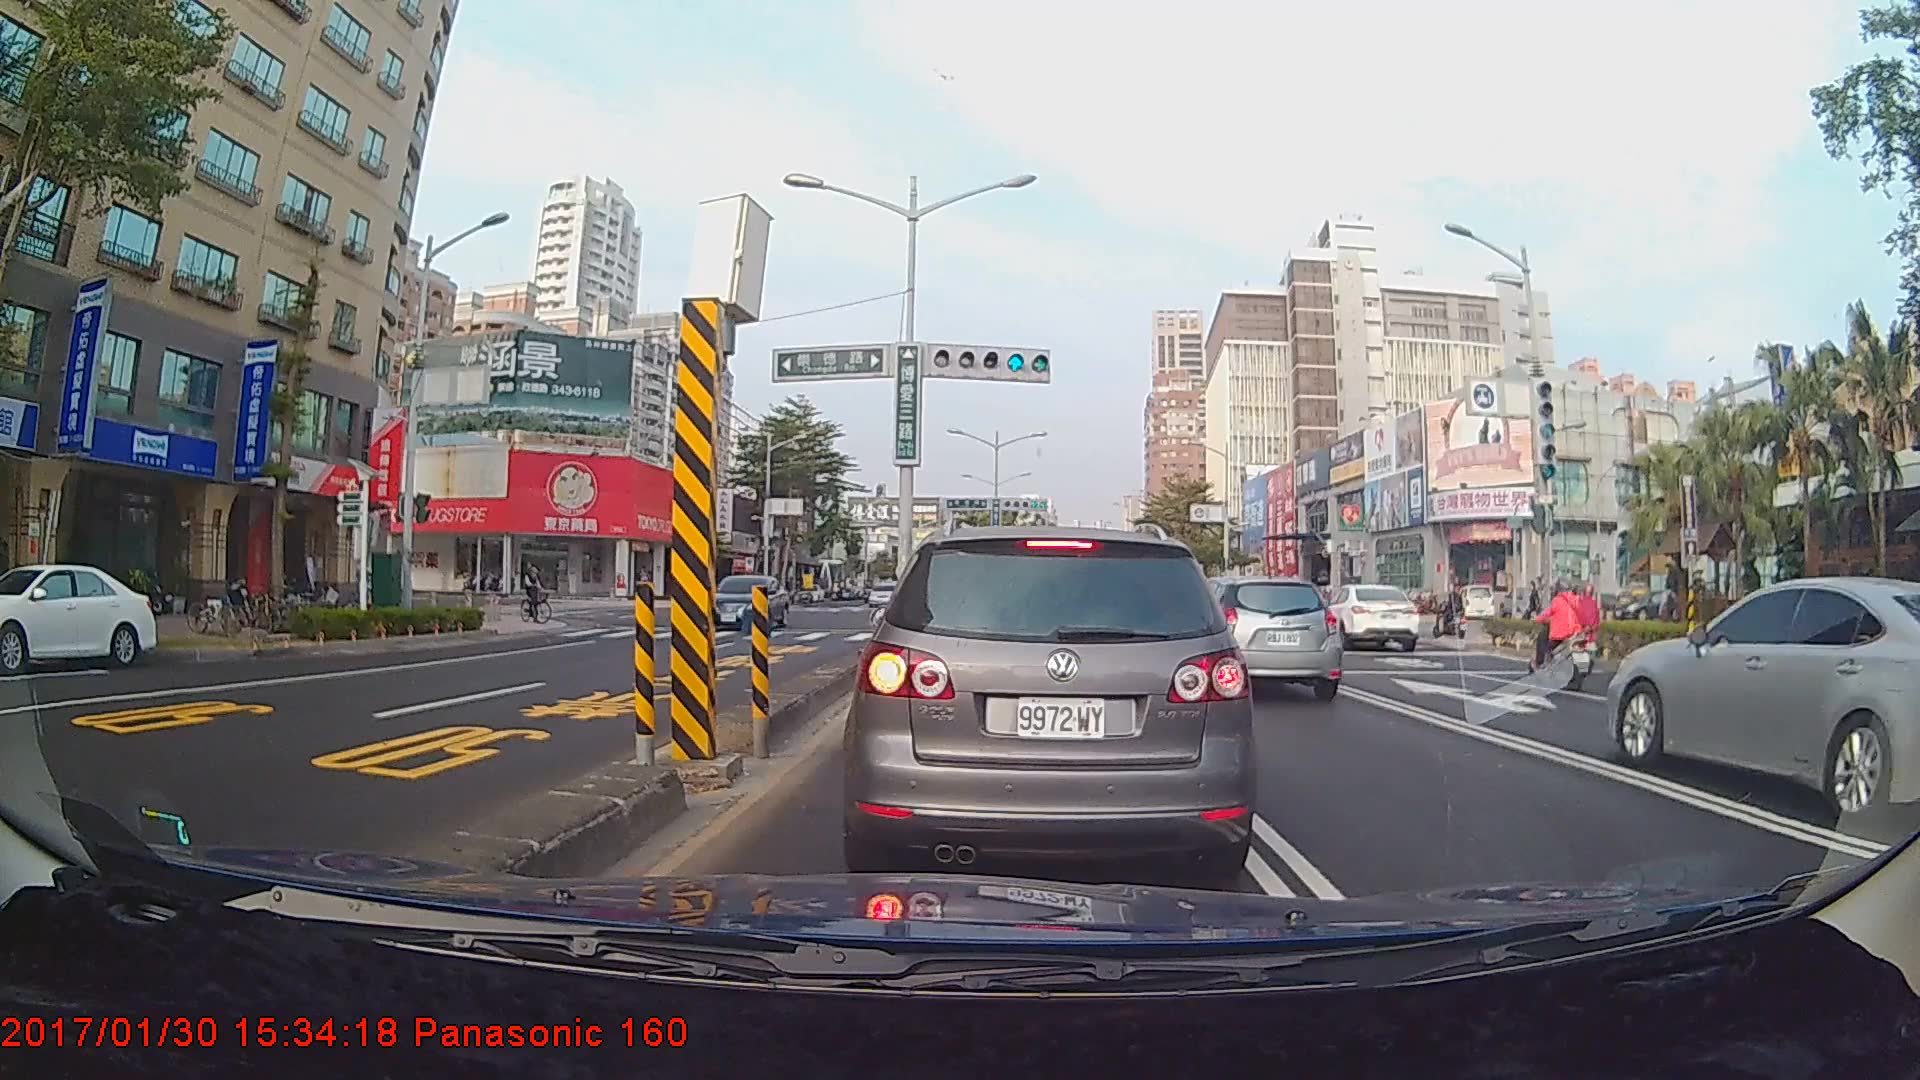pedestrian: (1663, 583, 1689, 642)
rider: (1537, 582, 1602, 698), (518, 559, 561, 629)
vehicle: (852, 521, 1246, 884), (1603, 575, 1919, 825), (1157, 578, 1344, 704), (0, 561, 158, 671), (1313, 582, 1420, 654), (701, 572, 790, 631), (865, 580, 904, 608)
